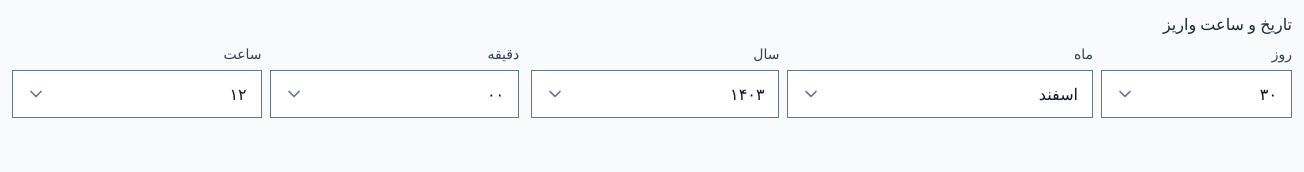
Test case: JalaliDateTimeInput › Esfand has 30 days in a leap year (1403) and 29 otherwise (1404)
Expected: the dropdown labelled "روز" shows "۳۰", top-left (1101, 70), bottom-right (1292, 118)
Select "۱۴۰۴" in the dropdown labelled "سال" at (655, 94), box top-left (531, 70), bottom-right (780, 118)
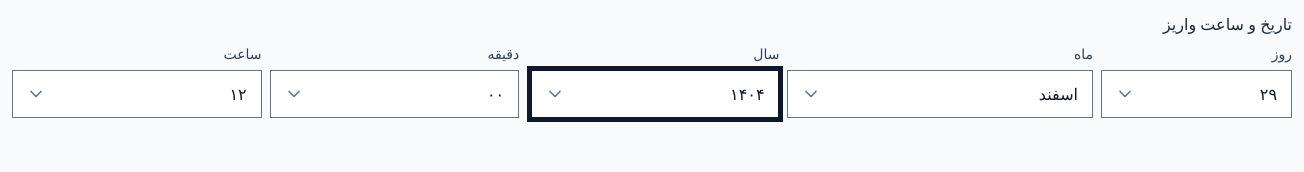
Result: the dropdown labelled "روز" shows "۲۹" at top-left (1101, 70), bottom-right (1292, 118)
